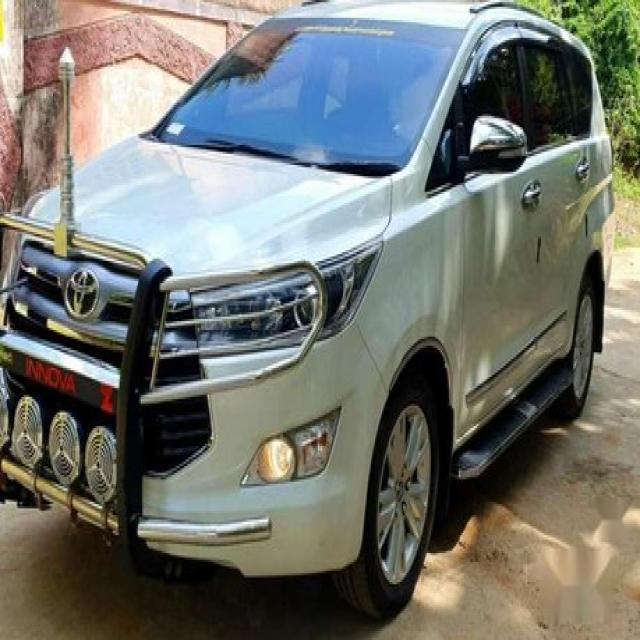light_vehicle: (1, 2, 617, 618)
